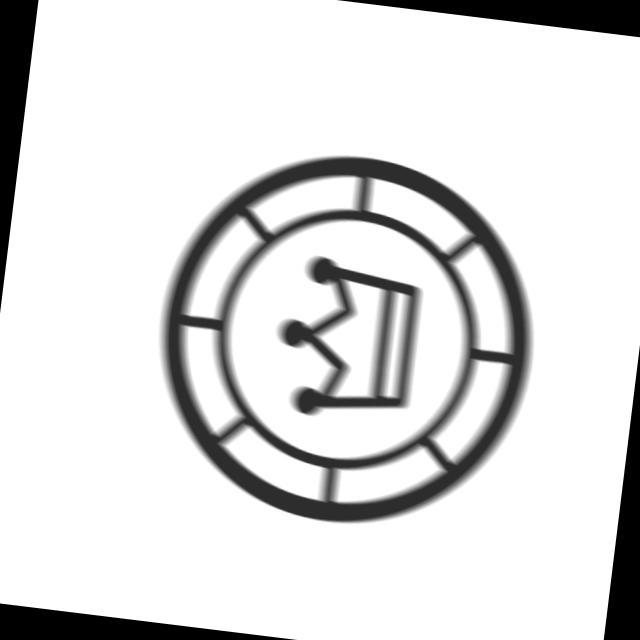coin: (128, 123, 565, 556)
